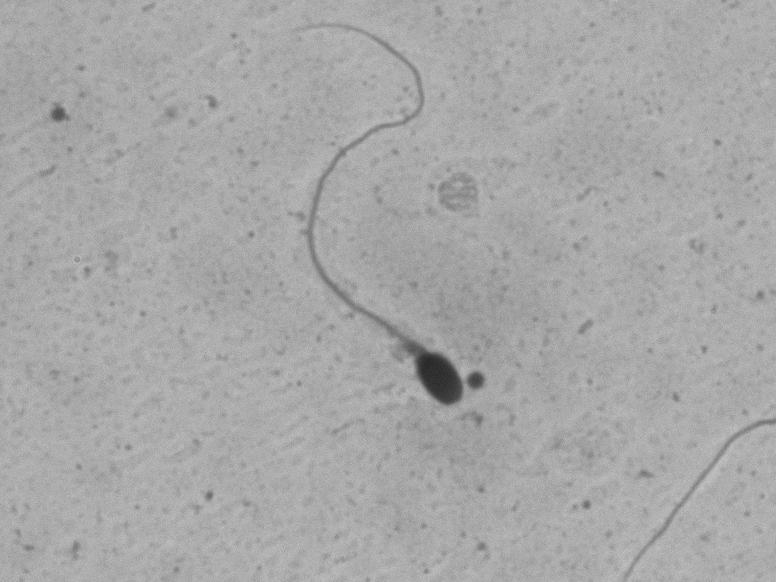Normal: (252, 10, 476, 434)
